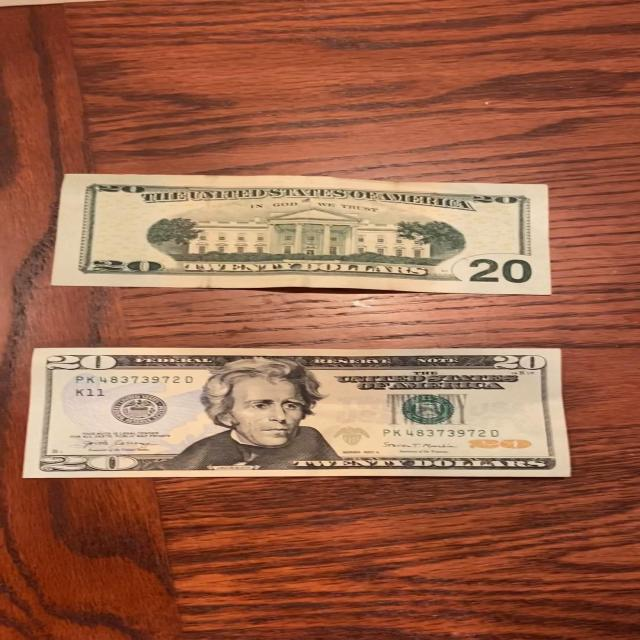20-Back: (41, 168, 562, 300)
20-Front: (20, 343, 576, 484)
